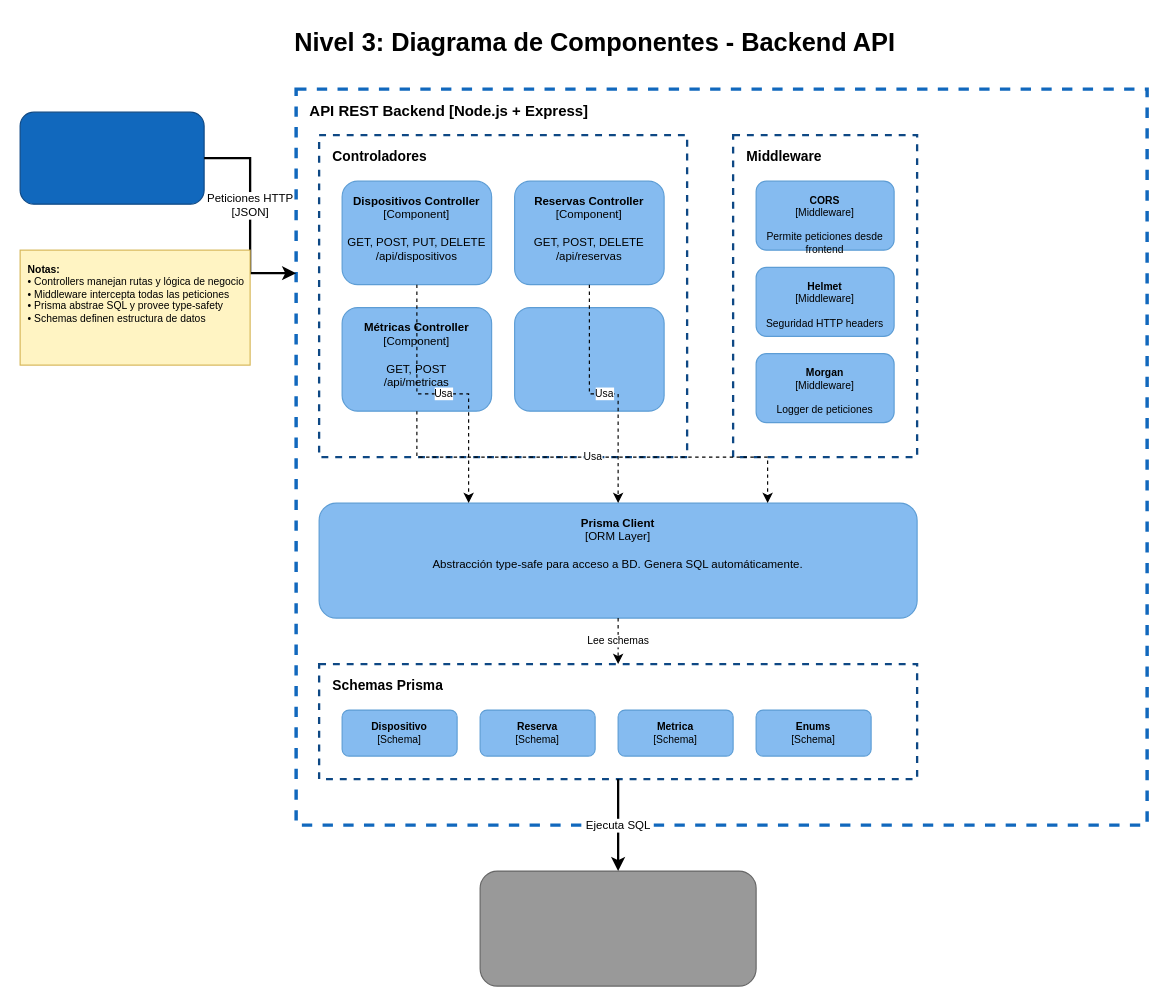
This 1168x1006 diagram has some shape labels left out. The centre of each missing label's shape, as x and y in pixels:
"Aplicación Web [Next.js SPA]" goes at point 111,157.
"Health Controller [Component] GET /health GET /api/info" goes at point 588,358.
"PostgreSQL [Base de Datos] Tablas: dispositivos, reservas, metricas" goes at point 617,928.
